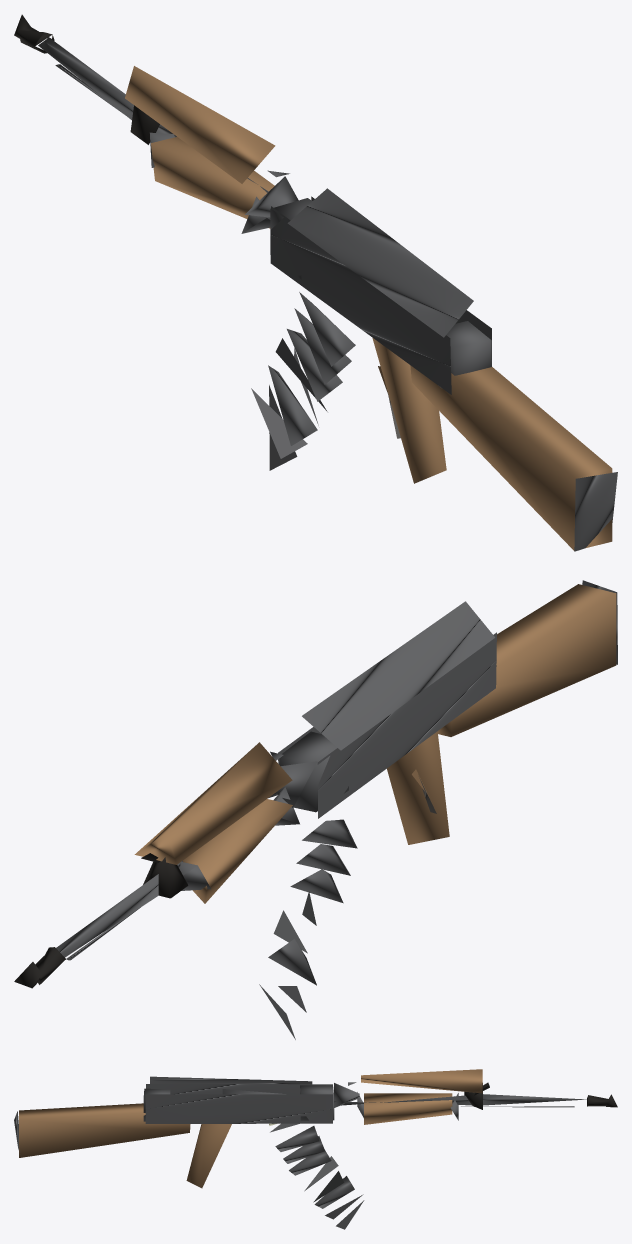
File: ak47-held.glb
3 views of the same model, one above another, from view 1: azimuth 30°, elevation 25°; view 2: azimuth 150°, elevation 25°; view 3: azimuth 270°, elevation 25° (orthographic). The views are drawn at different scales.
Parts seen in each view (by area): view 1: ak47-held; view 2: ak47-held; view 3: ak47-held.
Part boxes in pixels (x1=…): ak47-held: x1=14, y1=14, x2=617, y2=551; ak47-held: x1=14, y1=580, x2=617, y2=1039; ak47-held: x1=14, y1=1069, x2=617, y2=1229.
Size of the model in its own units: 0.0453 by 0.2614 by 0.8946.
